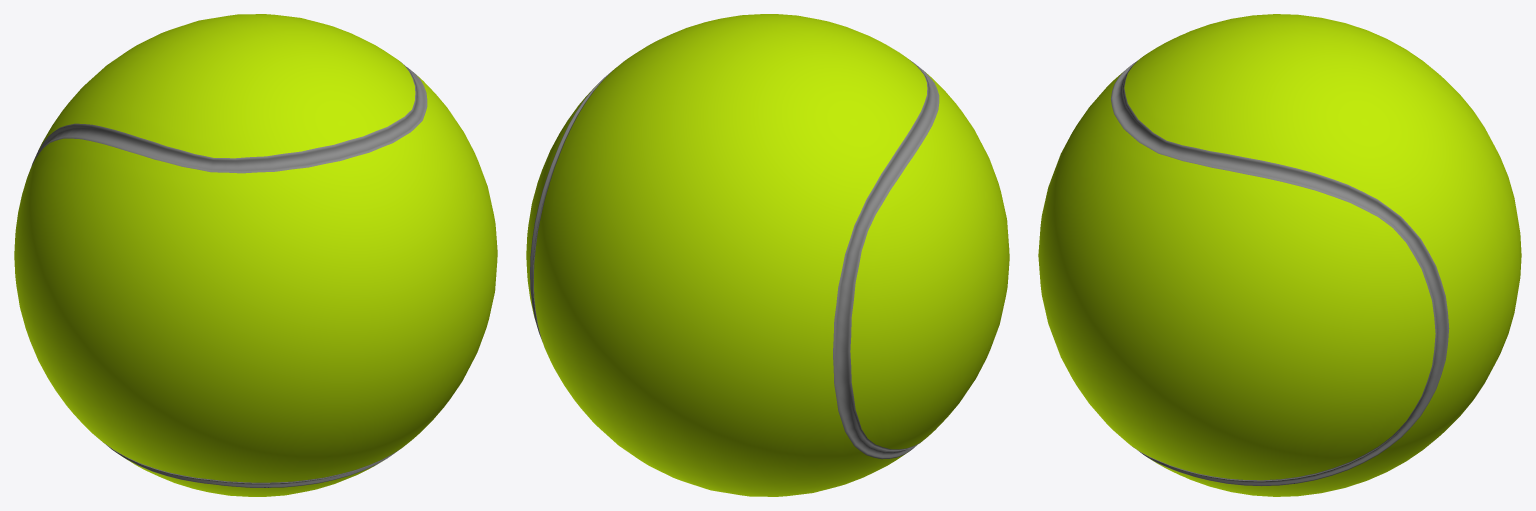
The model's file is Pelota.fbx.
3 renders of one model, left to right at view 1: azimuth 30°, elevation 25°; view 2: azimuth 150°, elevation 25°; view 3: azimuth 270°, elevation 25°, orthographic.
Parts seen in each view (by area): view 1: Ball; view 2: Ball; view 3: Ball.
Boxes of the visible parts, x1,y1,x2,y2 form: Ball: (14, 14, 497, 496); Ball: (526, 14, 1009, 496); Ball: (1038, 14, 1521, 496).
Bounding box in the file's own units: 8.03 × 8.03 × 8.03.
